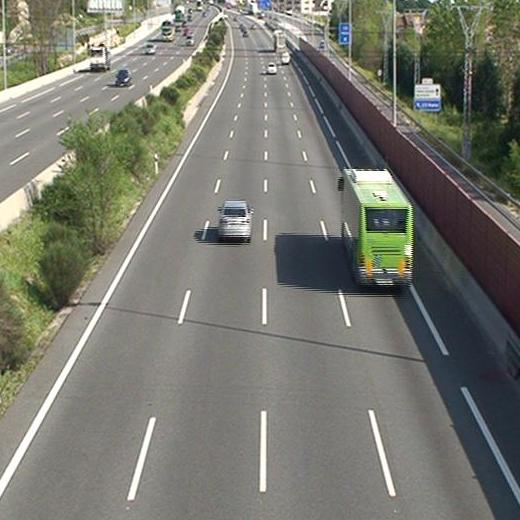bus: (342, 169, 412, 287)
car: (219, 200, 250, 236), (265, 63, 276, 74)
van: (281, 53, 288, 63)
